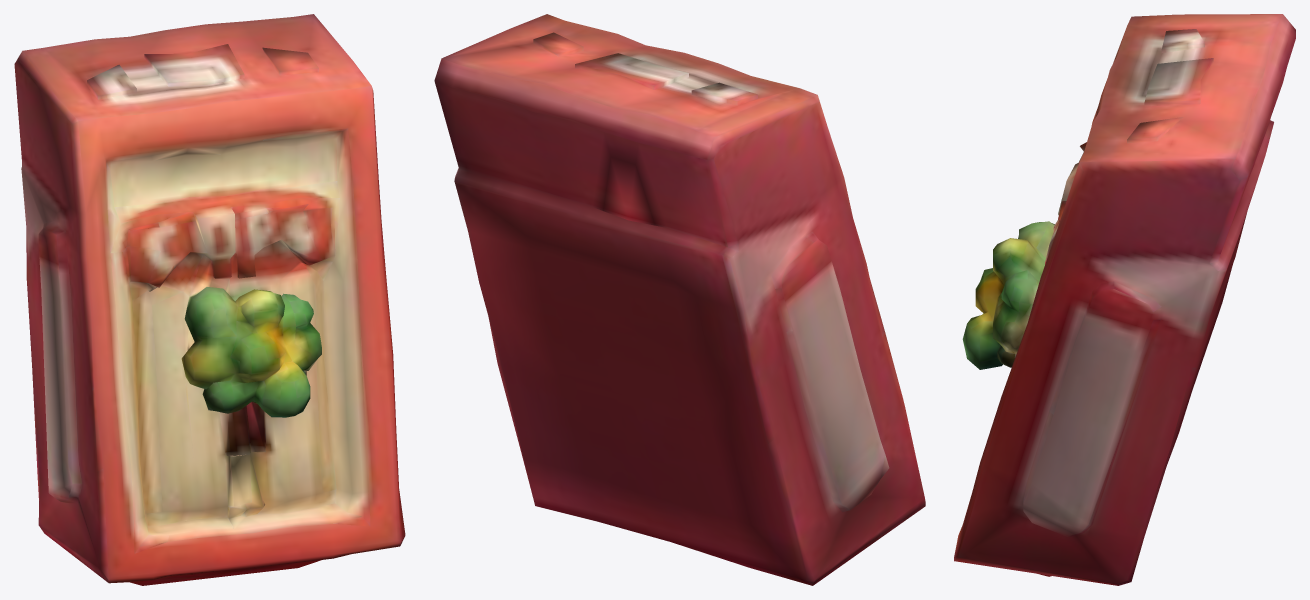
The model's file is rice-noodles.glb.
3 views of the same model, side by side, from view 1: azimuth 30°, elevation 25°; view 2: azimuth 150°, elevation 25°; view 3: azimuth 270°, elevation 25° (orthographic). The views are drawn at different scales.
Visible parts, largest first — view 1: Rice Noodles; view 2: Rice Noodles; view 3: Rice Noodles.
Boxes of the visible parts, <box> form: Rice Noodles: <box>14,14,405,585</box>; Rice Noodles: <box>434,14,925,585</box>; Rice Noodles: <box>954,14,1295,585</box>.
Size of the model in its own units: 1.38 by 1.9 by 1.22.
Materials: 1 (1 with a texture image).
